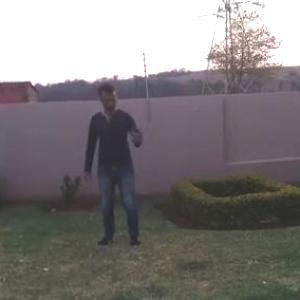takeoff-hand: (124, 120, 146, 149)
